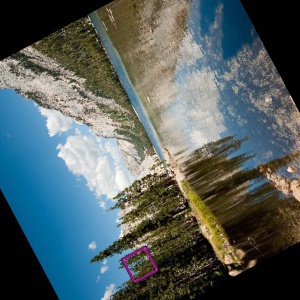square: (118, 245, 161, 284)
